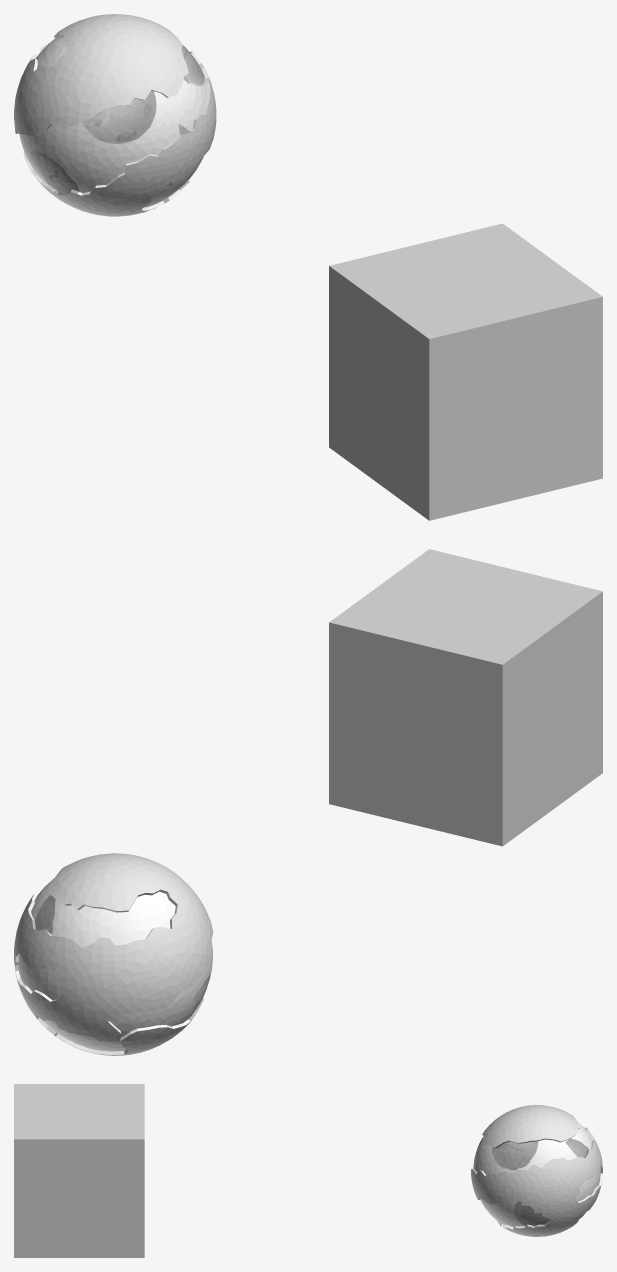
3 renders of one model, top to bottom at view 1: azimuth 30°, elevation 25°; view 2: azimuth 150°, elevation 25°; view 3: azimuth 270°, elevation 25°, orthographic. The views are drawn at different scales.
Parts seen in each view (by area): view 1: Cube, Pluto; view 2: Cube, Pluto; view 3: Cube, Pluto.
Boxes of the visible parts, x1,y1,x2,y2 form: Cube: (329, 223, 602, 520); Pluto: (14, 14, 216, 216); Cube: (329, 549, 602, 846); Pluto: (14, 853, 213, 1055); Cube: (14, 1084, 144, 1257); Pluto: (471, 1105, 602, 1236).
Bounding box in the file's own units: 2.02 × 2.02 × 9.01.
Materials: 3 (1 with a texture image).
